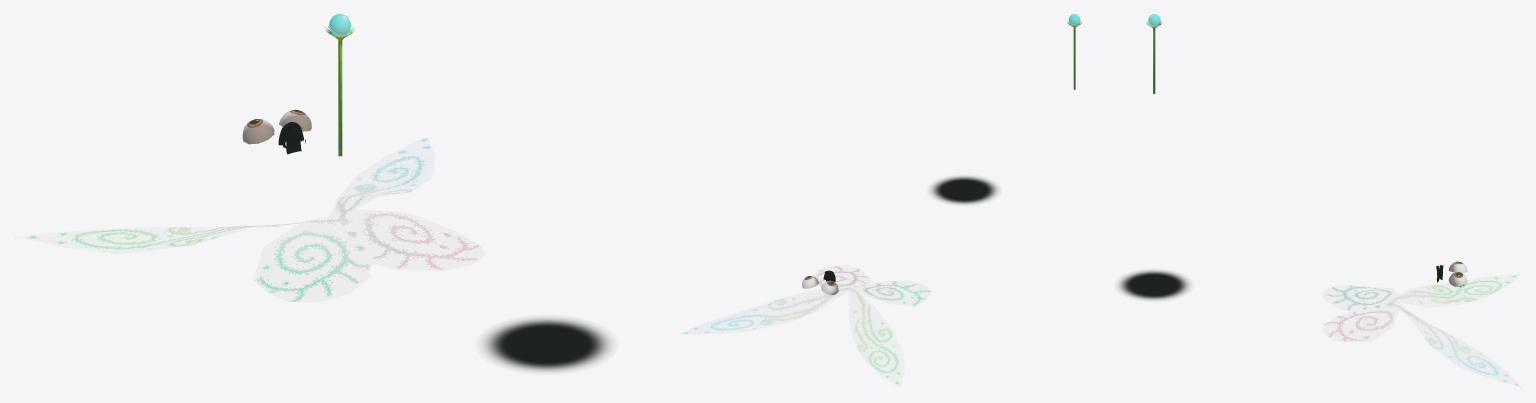
File: model_chunk_2.glb
3 renders of one model, left to right at view 1: azimuth 30°, elevation 25°; view 2: azimuth 150°, elevation 25°; view 3: azimuth 270°, elevation 25°, orthographic. The views are drawn at different scales.
Parts seen in each view (by area): view 1: Elly_wings, Ellie_shadow, Elly_wand, Elly_eye_R; view 2: Elly_wings, Ellie_shadow; view 3: Elly_wings, Ellie_shadow, Elly_wand.
Boxes of the visible parts, x1=… form: Elly_wings: x1=28, y1=138, x2=480, y2=301; Ellie_shadow: x1=484, y1=318, x2=610, y2=371; Elly_wand: x1=325, y1=14, x2=355, y2=156; Elly_eye_R: x1=242, y1=118, x2=274, y2=144; Elly_wings: x1=684, y1=266, x2=930, y2=383; Ellie_shadow: x1=931, y1=176, x2=997, y2=204; Elly_wings: x1=1324, y1=275, x2=1518, y2=385; Ellie_shadow: x1=1118, y1=270, x2=1189, y2=299; Elly_wand: x1=1146, y1=14, x2=1161, y2=93.
Size of the model in its own units: 0.9654 by 1 by 1.43.
Materials: 2 (2 with a texture image).
